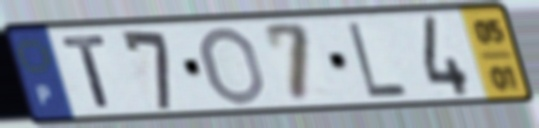4: (420, 12, 474, 100)
7: (261, 20, 320, 106), (118, 27, 174, 112)
L: (343, 19, 412, 99)
O: (198, 24, 270, 108)
T: (58, 32, 115, 110)
